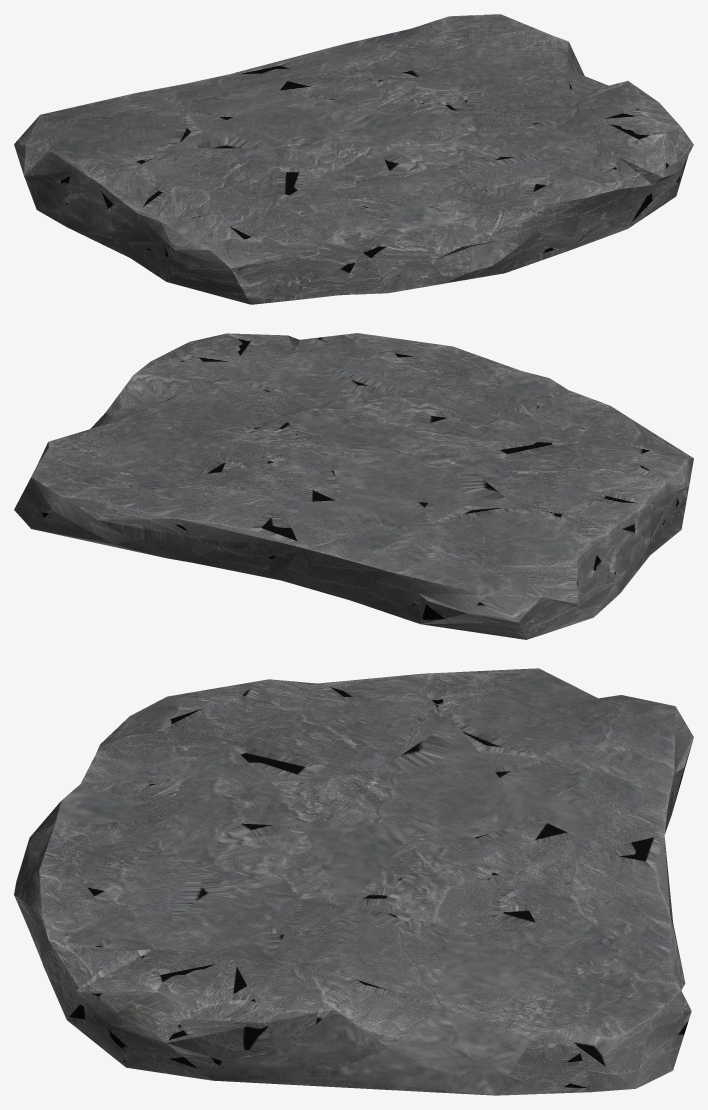
Rendered from co_stratified_slab_lod1.glb.
The picture shows the model from 3 angles, top to bottom: view 1: azimuth 30°, elevation 25°; view 2: azimuth 150°, elevation 25°; view 3: azimuth 270°, elevation 25°; orthographic projection. The views are drawn at different scales.
Visible parts, largest first — view 1: output_unwrapped; view 2: output_unwrapped; view 3: output_unwrapped.
Part boxes in pixels (left/top/right/bottom): output_unwrapped: left=14, top=14, right=693, bottom=304; output_unwrapped: left=14, top=333, right=693, bottom=639; output_unwrapped: left=14, top=668, right=693, bottom=1095.
Size of the model in its own units: 1.87 by 0.212 by 1.47.
Materials: 1 (1 with a texture image).
